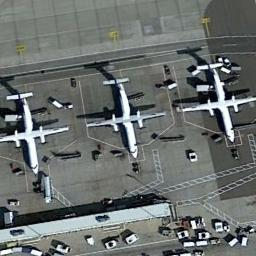Airplane: (173, 59, 256, 147), (86, 72, 168, 158), (0, 88, 74, 176)
